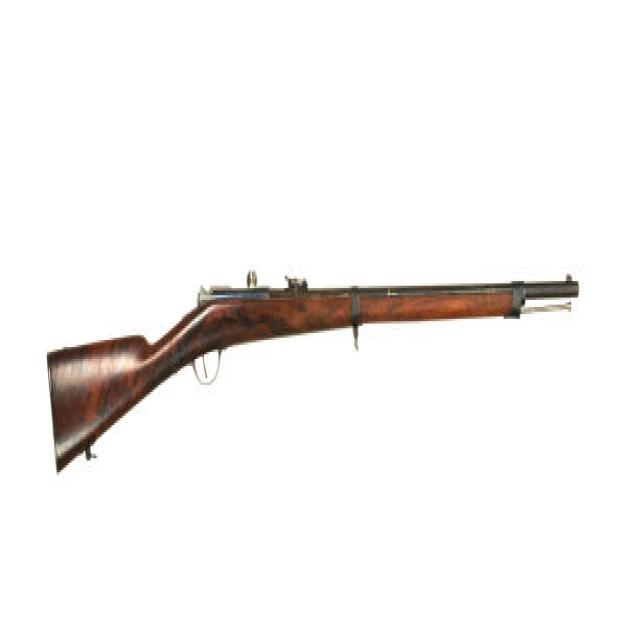rifle: (45, 264, 588, 486)
